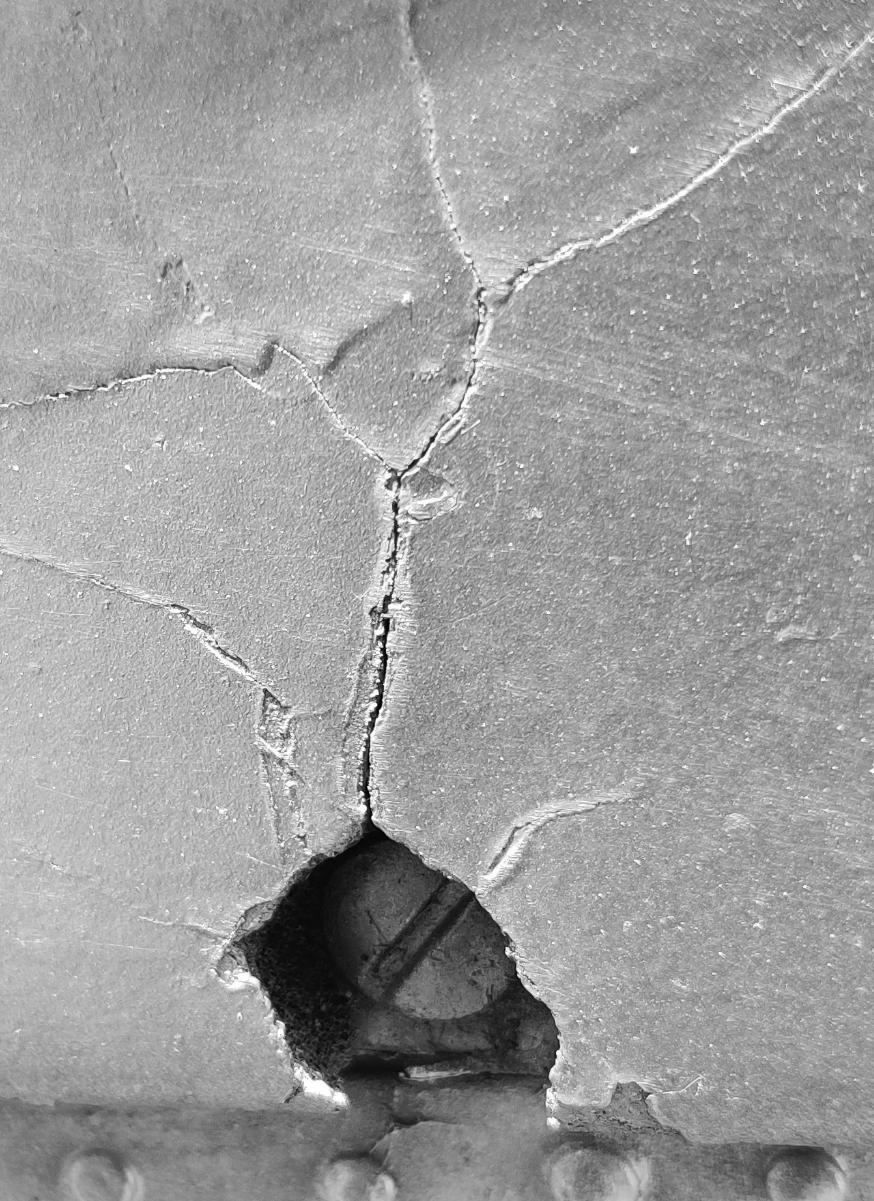crack: (1, 0, 874, 1201)
